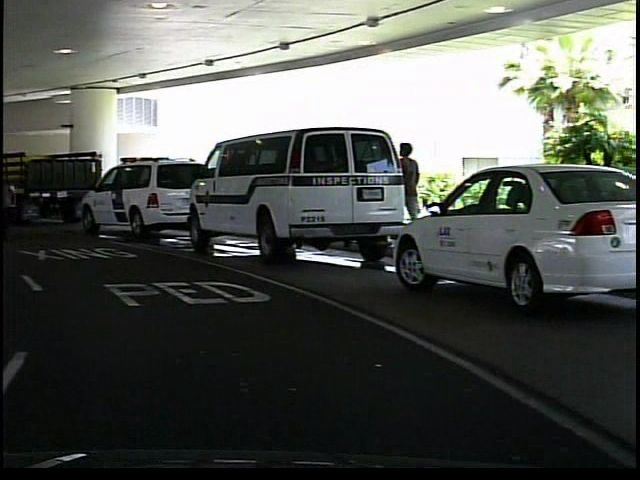person: (387, 139, 423, 252)
